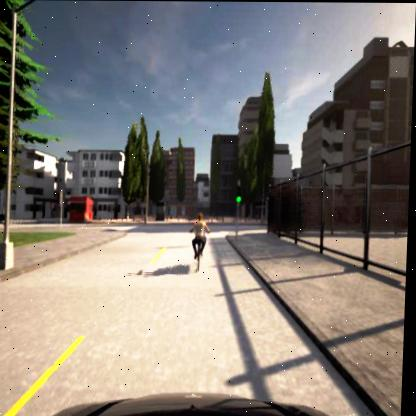bike: (188, 212, 213, 271)
